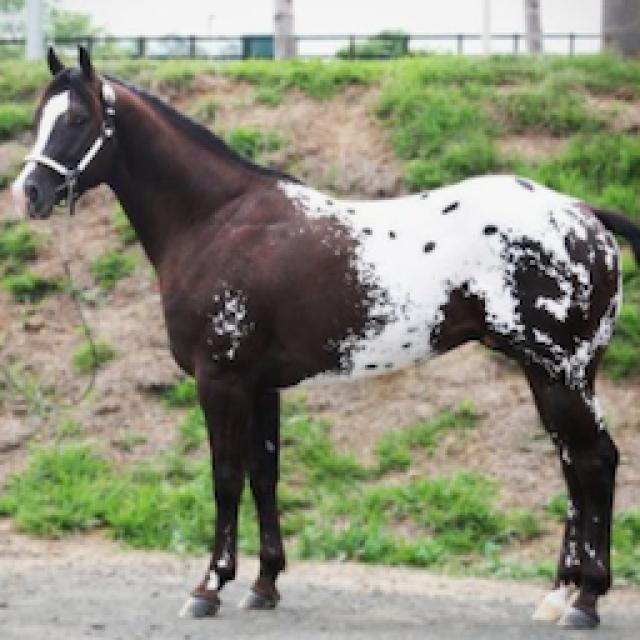Horse: (5, 37, 638, 635)
